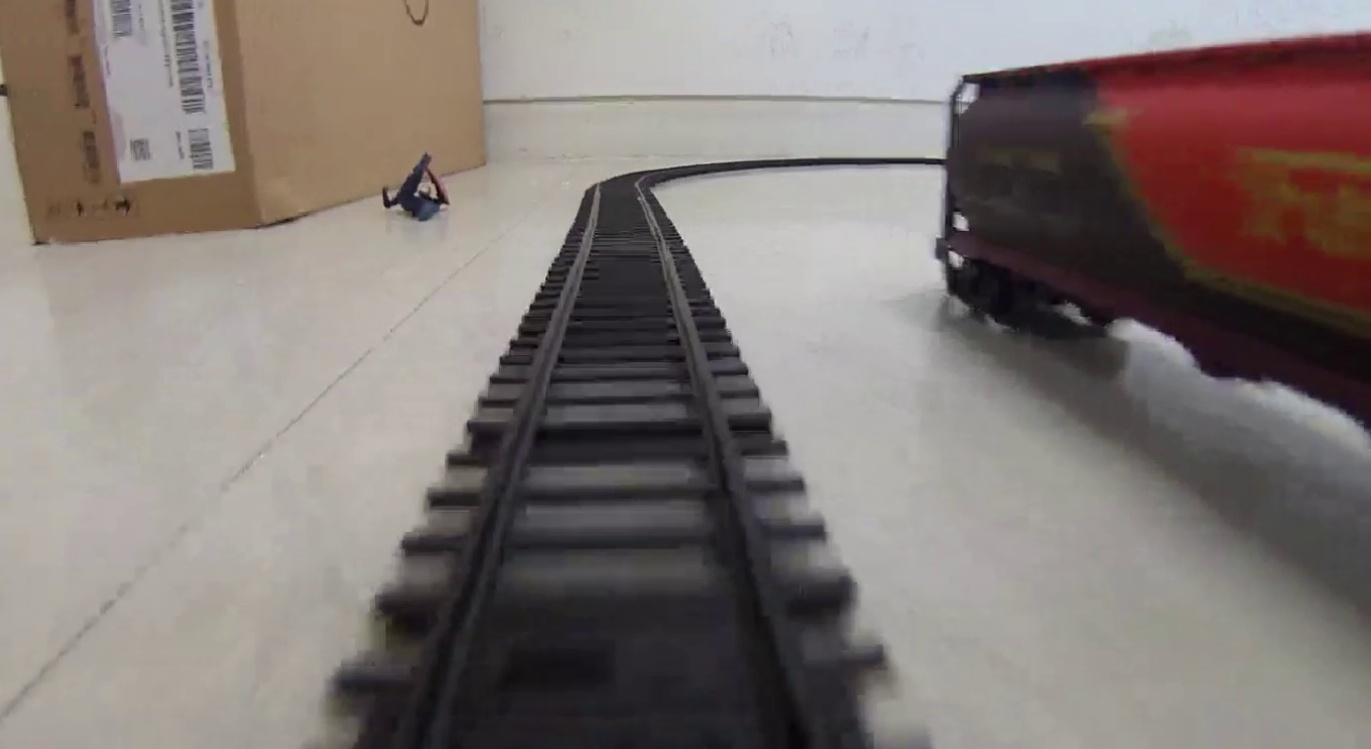people: (378, 153, 450, 222)
